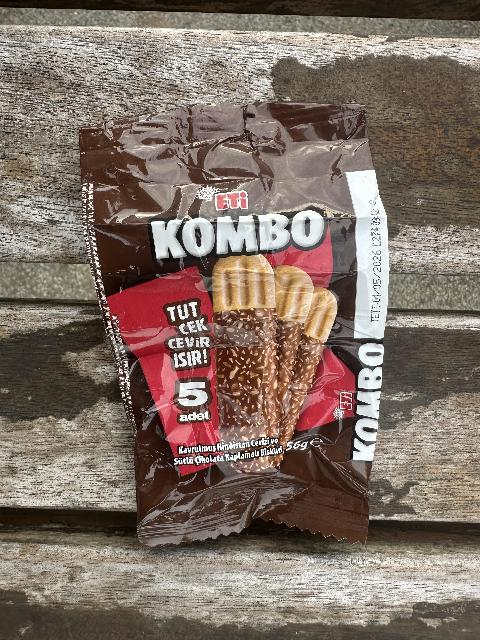Plastik: (79, 103, 394, 554)
